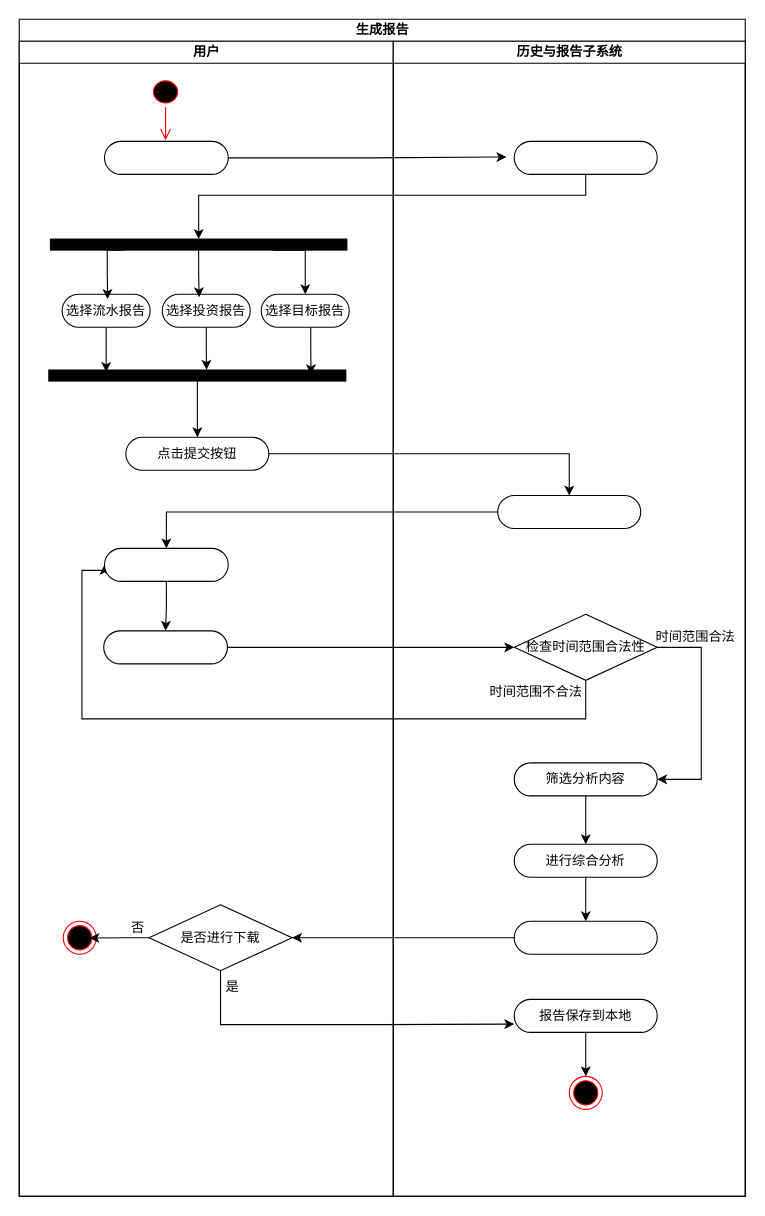
This 765x1216 diagram has some shape labels left out. The centre of each missing label's shape, as x and y in pixels:
"提示用户选择报告内容" belongs at pixel 585 157.
"提示用户选择时间范围" belongs at pixel 569 511.
"显示分析结果与建议" belongs at pixel 585 937.
"点击按钮提交" belongs at pixel 165 647.
"点击生成报告" belongs at pixel 165 157.
"输入时间范围" belongs at pixel 165 564.
